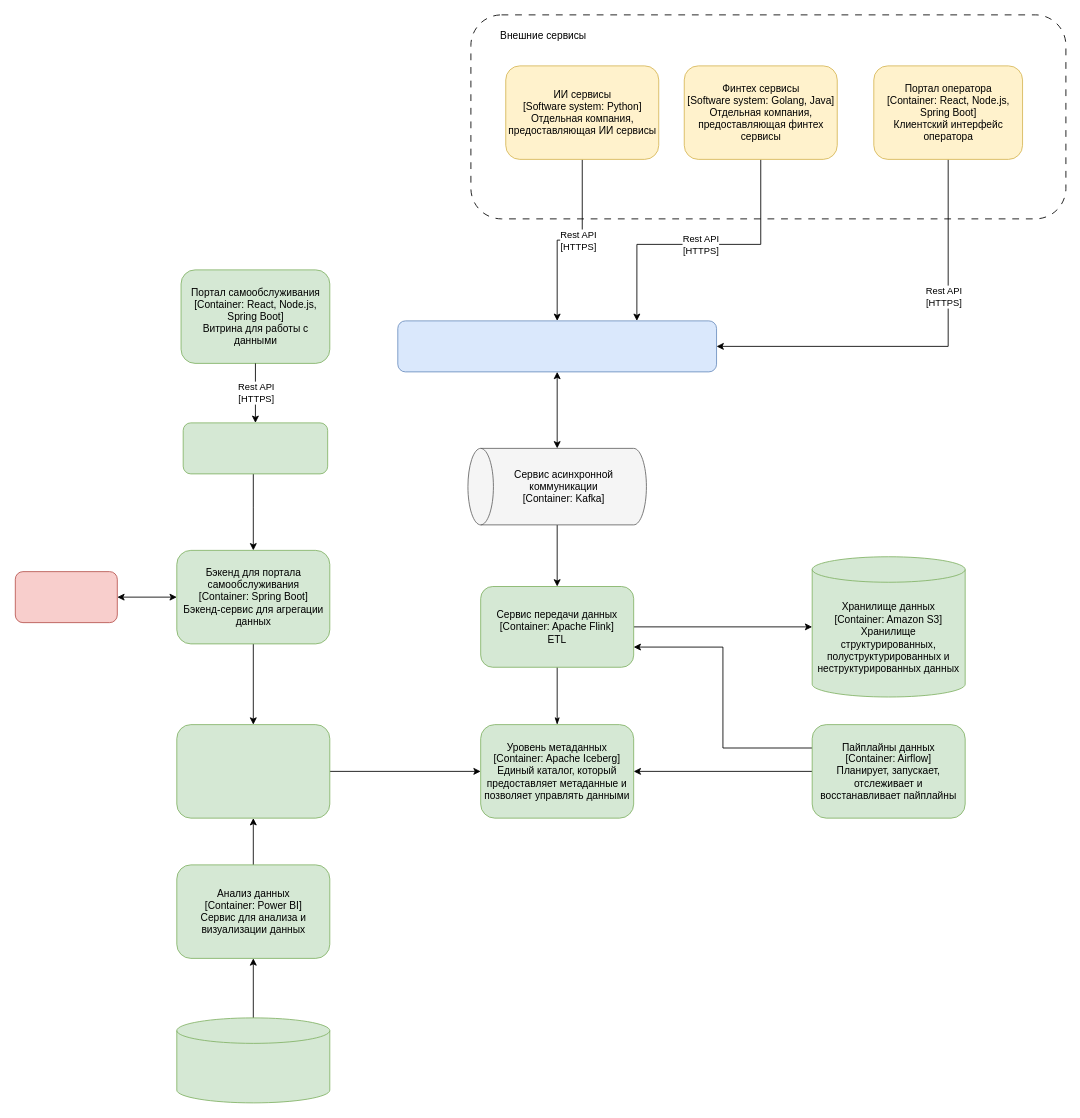
This 1080x1118 diagram has some shape labels left out. The centre of each missing label's shape, as x and y in pixels:
"API Gateway [Container: Java] API Gateway" belongs at point 255,448.
"Query engine [Container: Trino] SQL-движок для чтения Iceberg" belongs at point 253,771.
"Кеширование [Container: Redis]" belongs at point 65,597.
"Хранилище данных [Container] Data Warehouse" belongs at point 253,1060.
"Шина данных [Container: Apache Camel] Интеграционная шина" belongs at point 557,346.
